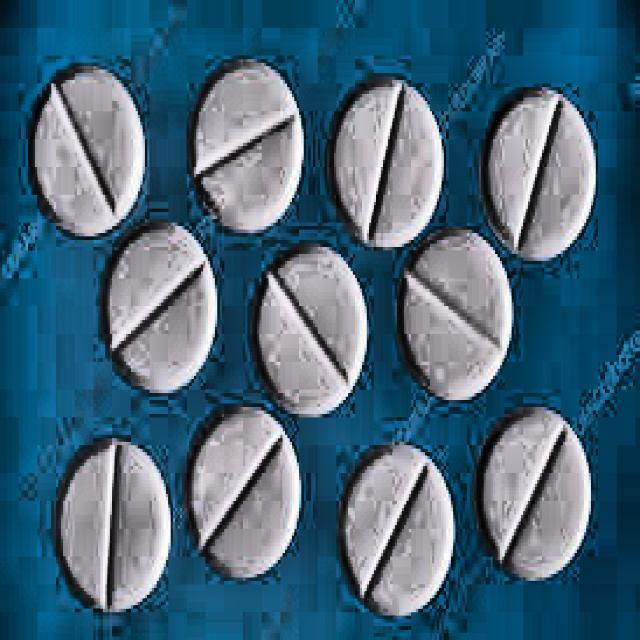Aspirin: (482, 73, 620, 264), (17, 62, 155, 244), (392, 230, 520, 415), (176, 63, 314, 232), (184, 397, 304, 587), (257, 237, 375, 429), (480, 399, 597, 587), (95, 237, 227, 403), (56, 435, 172, 619), (339, 438, 455, 622), (327, 82, 448, 242)
